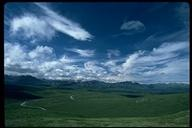cloud: (13, 32, 184, 72)
field: (14, 95, 184, 122)
sky: (9, 5, 187, 71)
